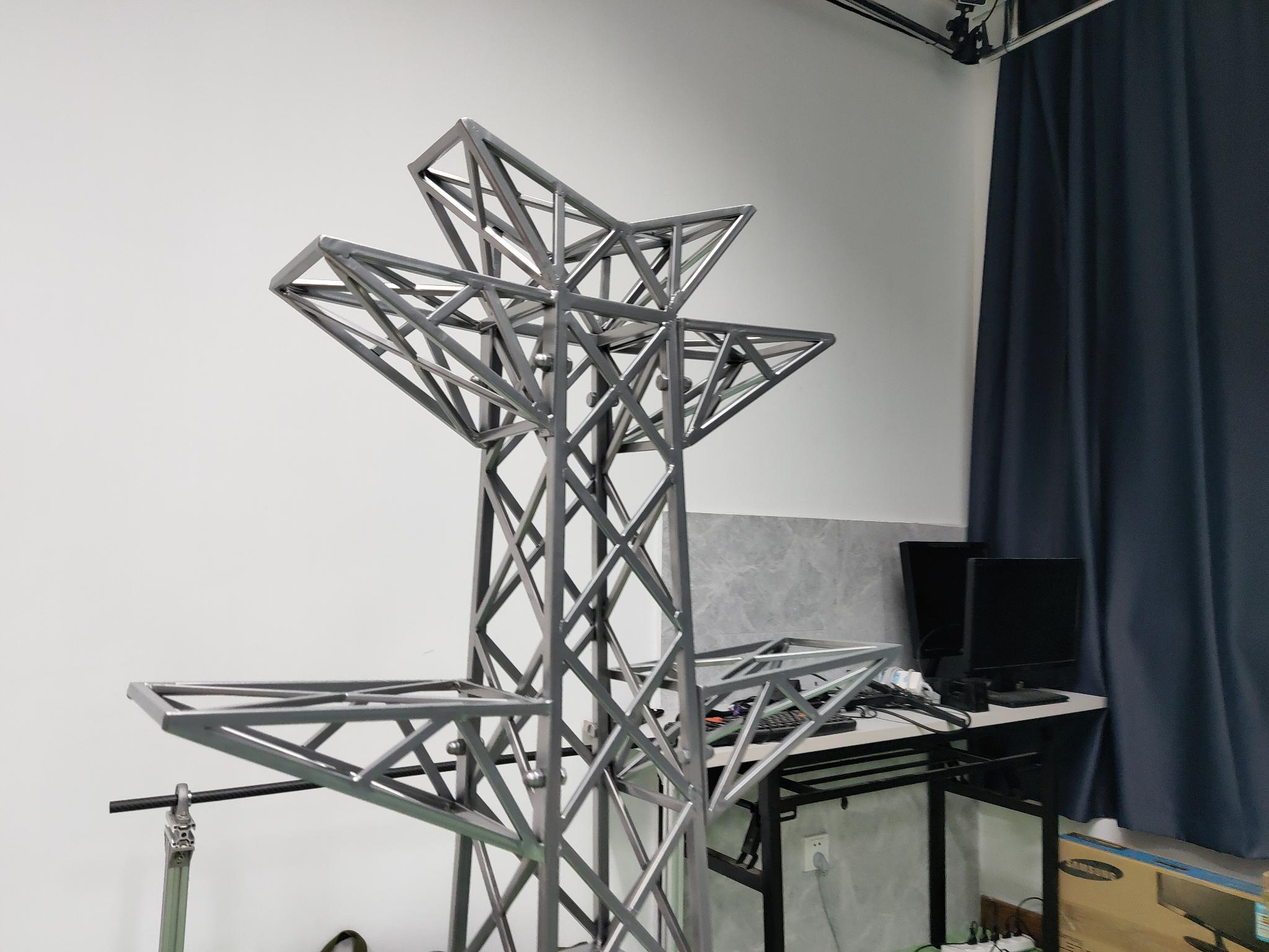tower: (139, 121, 874, 952)
